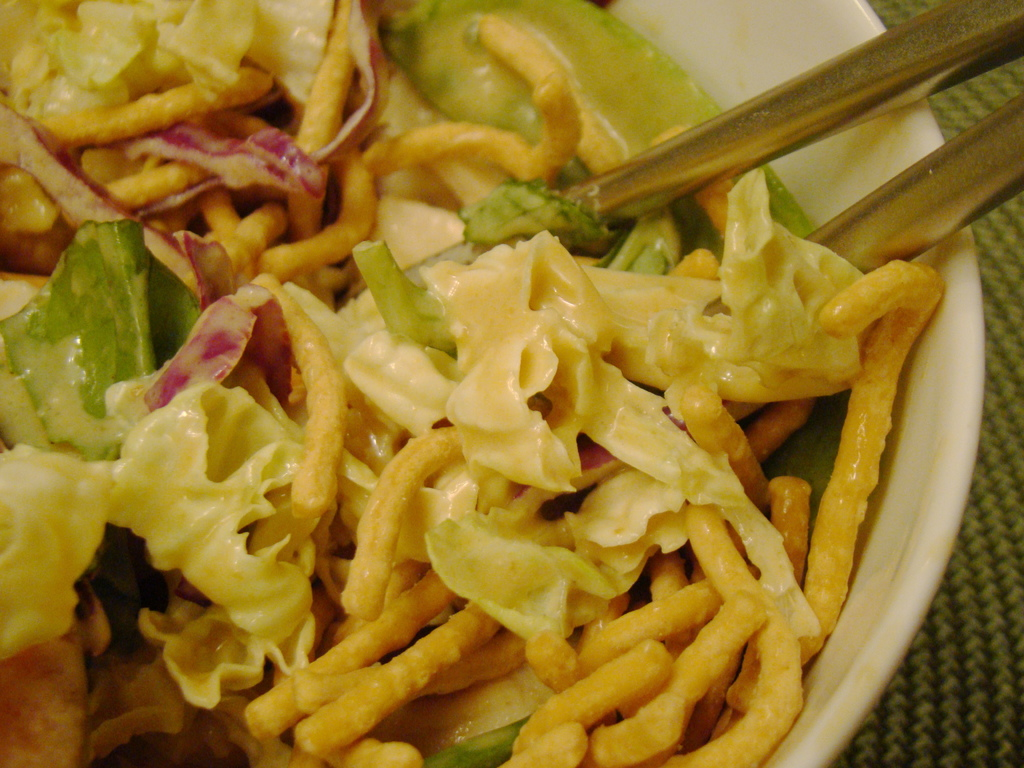salad: (0, 0, 950, 767)
